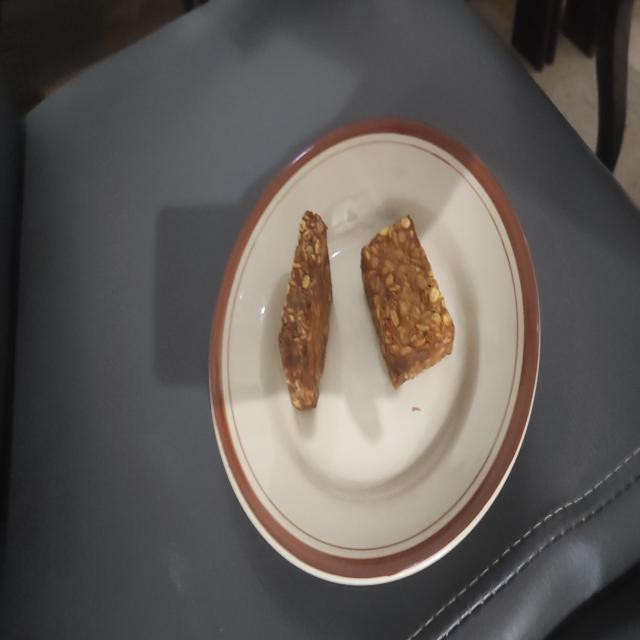tempe_goreng: (361, 215, 454, 388), (278, 212, 332, 410)
